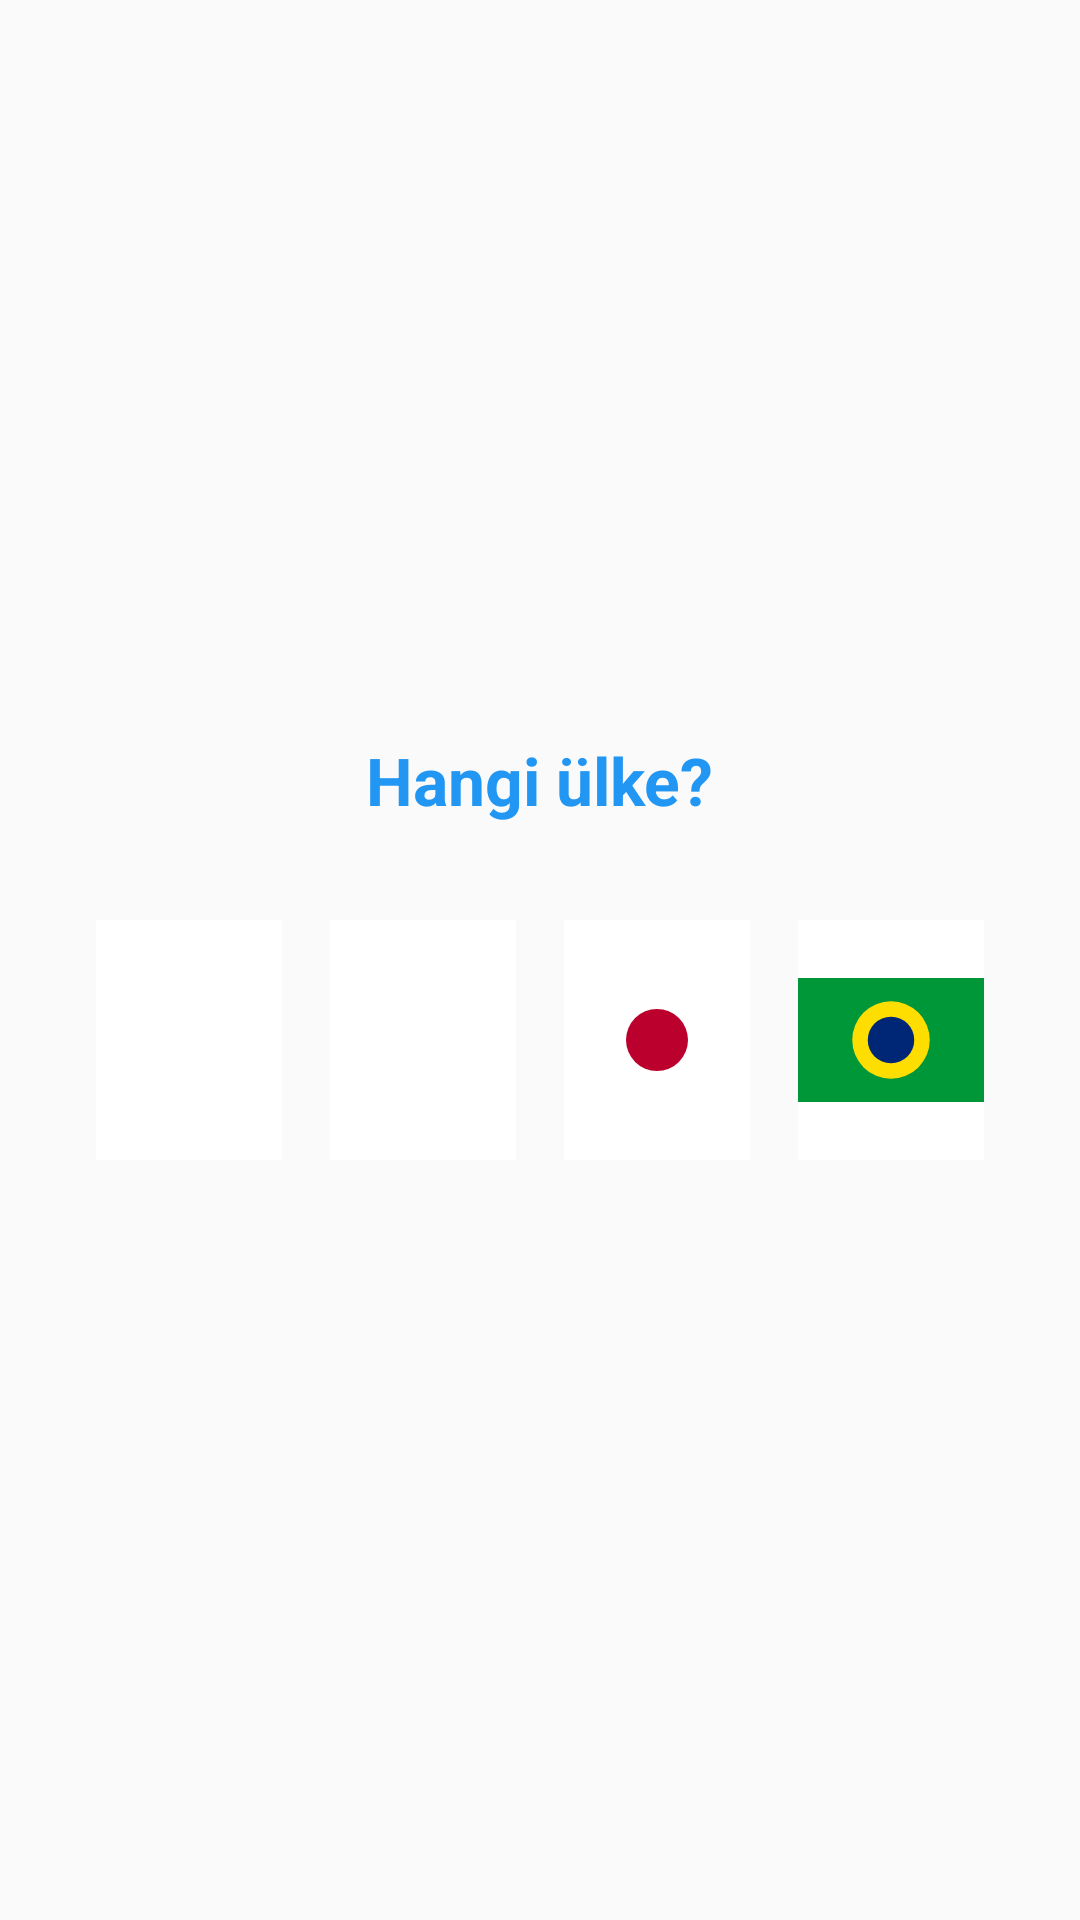

Where to tap for icons on this 1080*1920 app screen, as [x,y]:
flag brazil: [891,1040]
flag japan: [657,1040]
